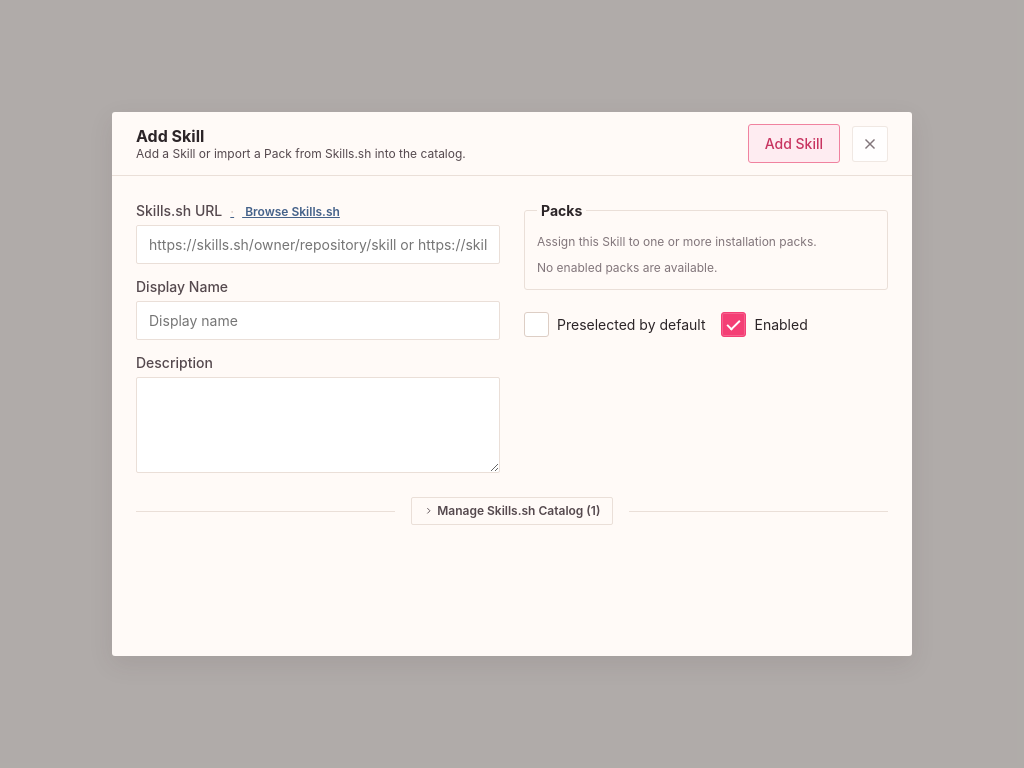
Test: AddSkillDialog › Skills.sh catalog table › disables row and bulk controls while a delete is in flight
What coordinates should you click on to do the following:
click the button with class "add-skill-dialog__catalog-toggle"
I would click on:
 (512, 511)
Its box is left=411, top=497, right=613, bottom=525.
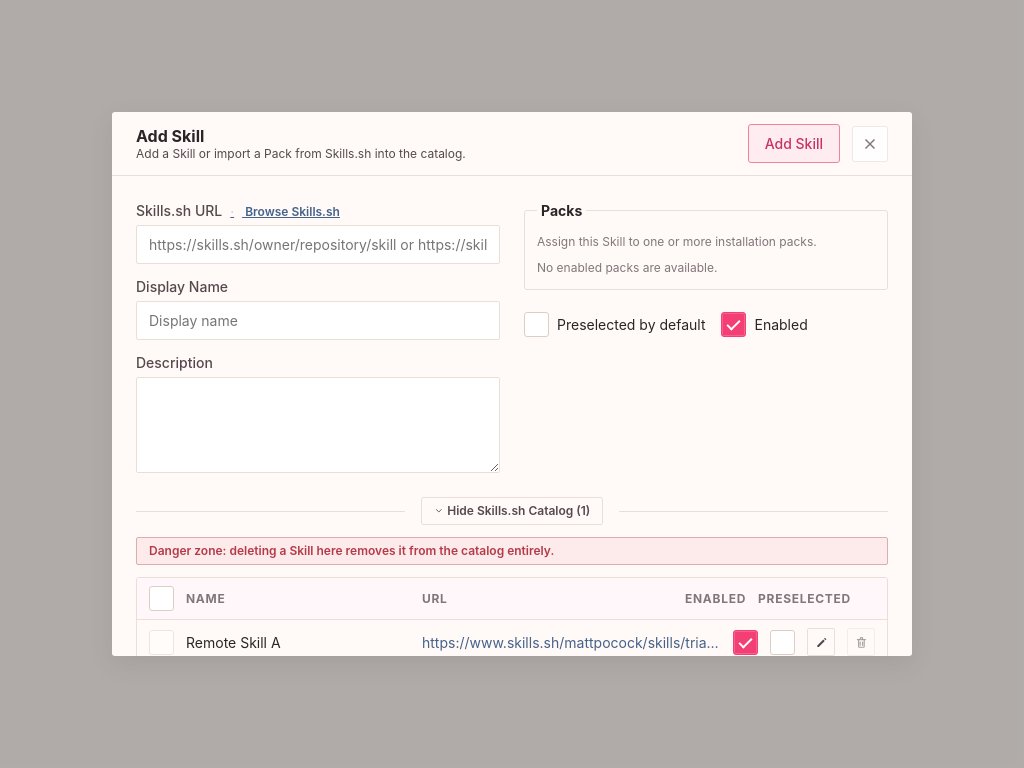
Expected: the button with class "add-skill-dialog__row-delete" is disabled, left=847, top=628, right=875, bottom=656
